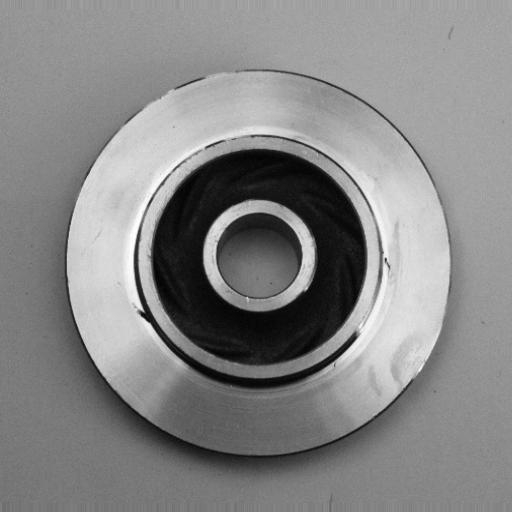crack: (117, 290, 171, 337), (373, 236, 403, 293)
unpolished_casting: (64, 66, 453, 463)
